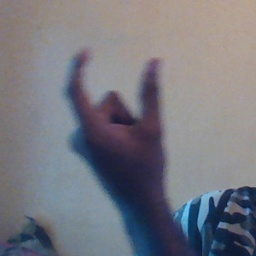U: (54, 44, 173, 175)
